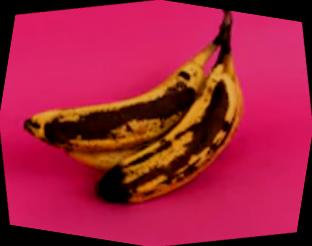Banana Overripe: (9, 0, 277, 243)
